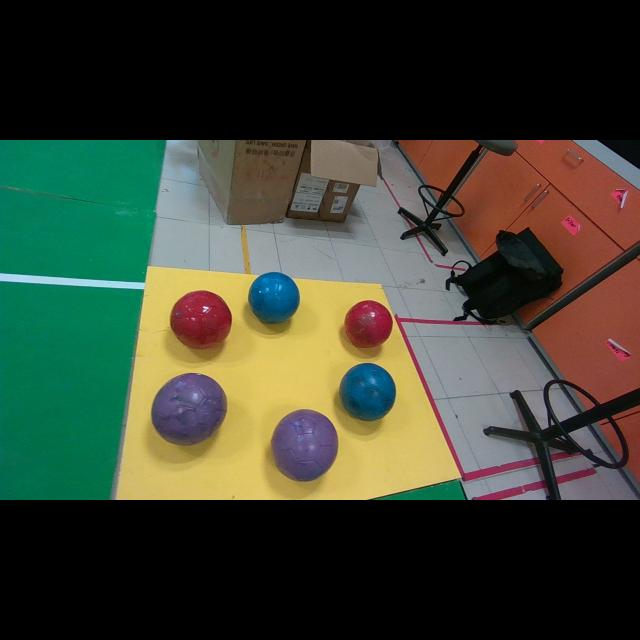B: (339, 362, 396, 421), (249, 272, 300, 324)
P: (151, 372, 228, 445), (271, 410, 338, 481)
R: (170, 290, 232, 349), (345, 300, 392, 347)
